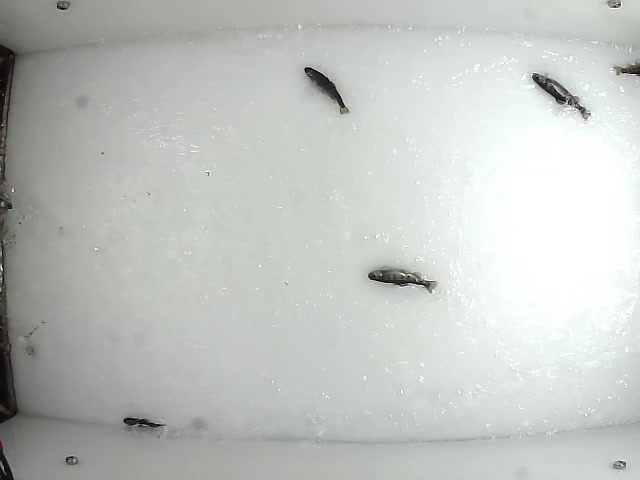fish: (531, 71, 595, 121), (299, 63, 353, 115), (365, 262, 439, 298), (122, 413, 170, 431)
